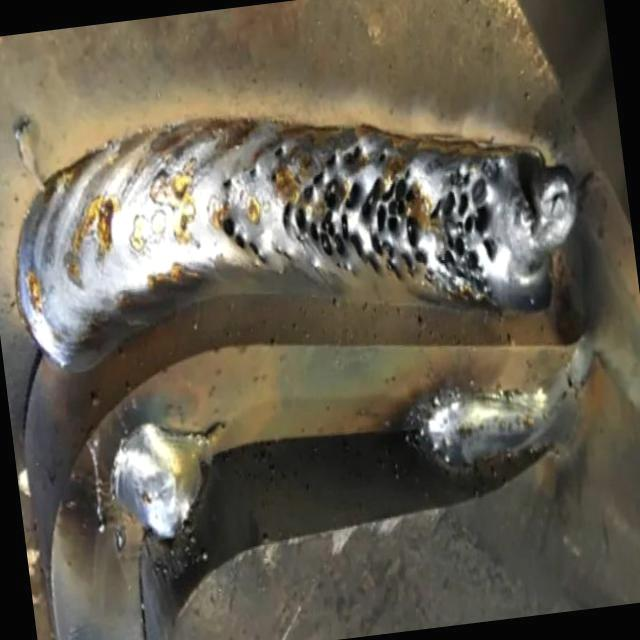defect: (279, 136, 508, 315), (219, 211, 271, 272), (219, 173, 234, 198), (272, 144, 284, 161), (247, 163, 257, 182), (270, 171, 279, 185)
